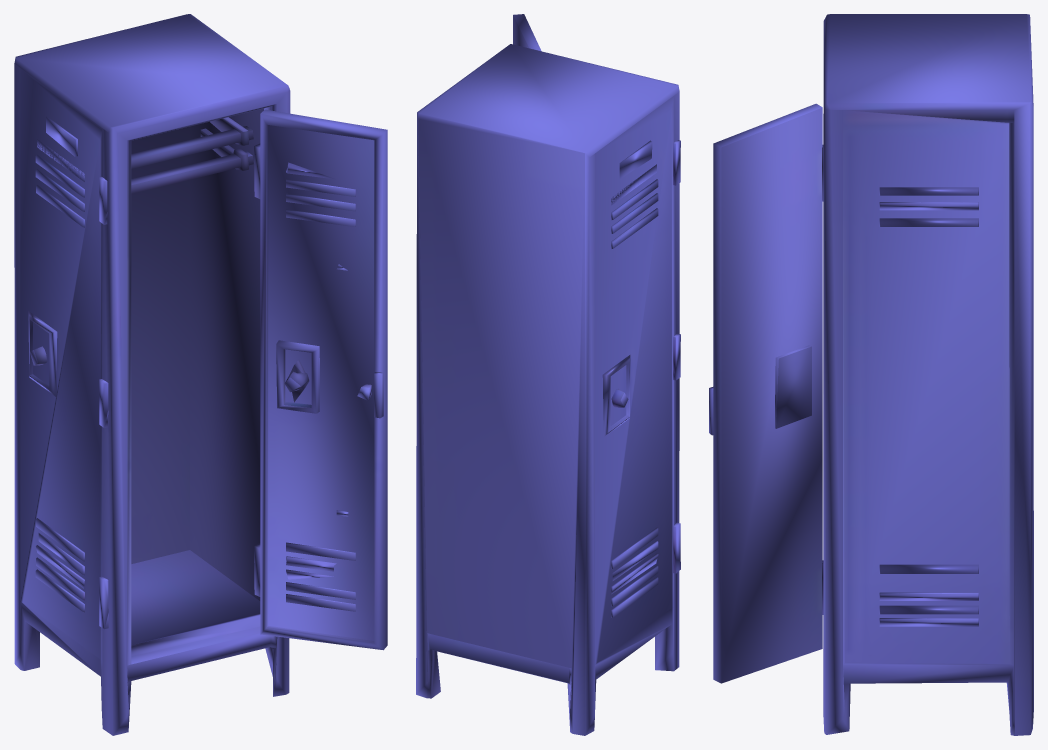
File: model.progressive.glb
The picture shows the model from 3 angles, left to right: view 1: azimuth 30°, elevation 25°; view 2: azimuth 150°, elevation 25°; view 3: azimuth 270°, elevation 25°; orthographic projection. The views are drawn at different scales.
Parts seen in each view (by area): view 1: material; view 2: material; view 3: material.
Part boxes in pixels (x1,y1,x2,y2): material: (14, 14, 387, 735); material: (416, 14, 680, 735); material: (709, 14, 1033, 735).
Bounding box in the file's own units: 0.7654 × 1.89 × 0.8814.
Materials: 1 (1 with a texture image).
